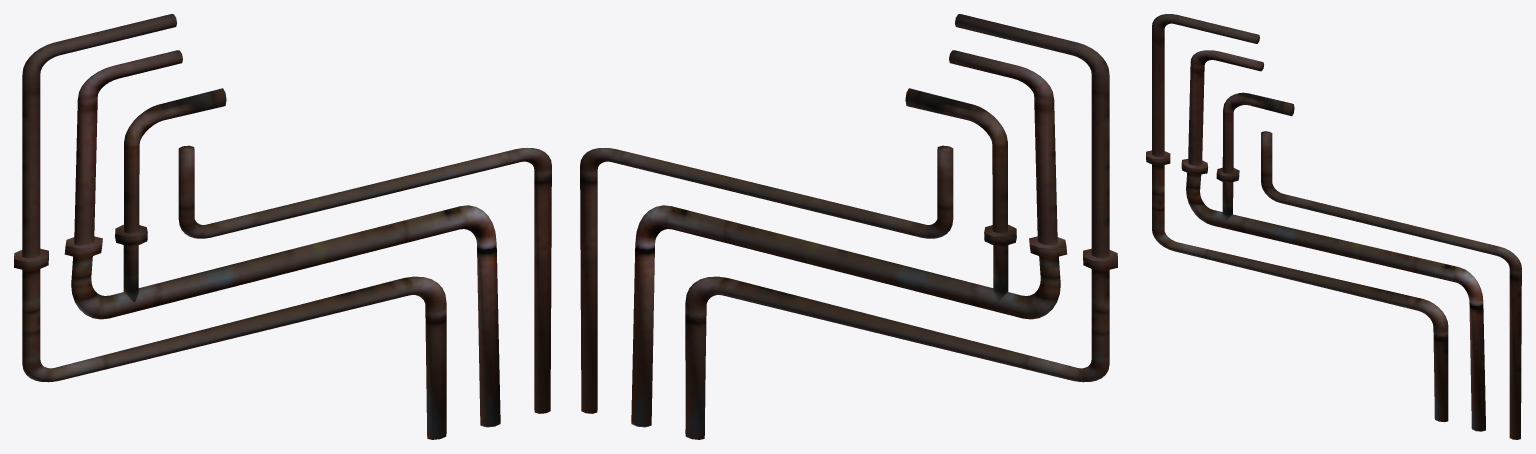
The model's file is sewer_pipes.FBX.
3 renders of one model, left to right at view 1: azimuth 30°, elevation 25°; view 2: azimuth 150°, elevation 25°; view 3: azimuth 330°, elevation 25°, orthographic. The views are drawn at different scales.
Parts seen in each view (by area): view 1: sewer_pipes; view 2: sewer_pipes; view 3: sewer_pipes.
Part boxes in pixels (x1=…): sewer_pipes: x1=14, y1=14, x2=551, y2=439; sewer_pipes: x1=580, y1=14, x2=1117, y2=439; sewer_pipes: x1=1146, y1=14, x2=1521, y2=439.
Bounding box in the file's own units: 132 × 114 × 6.83.
